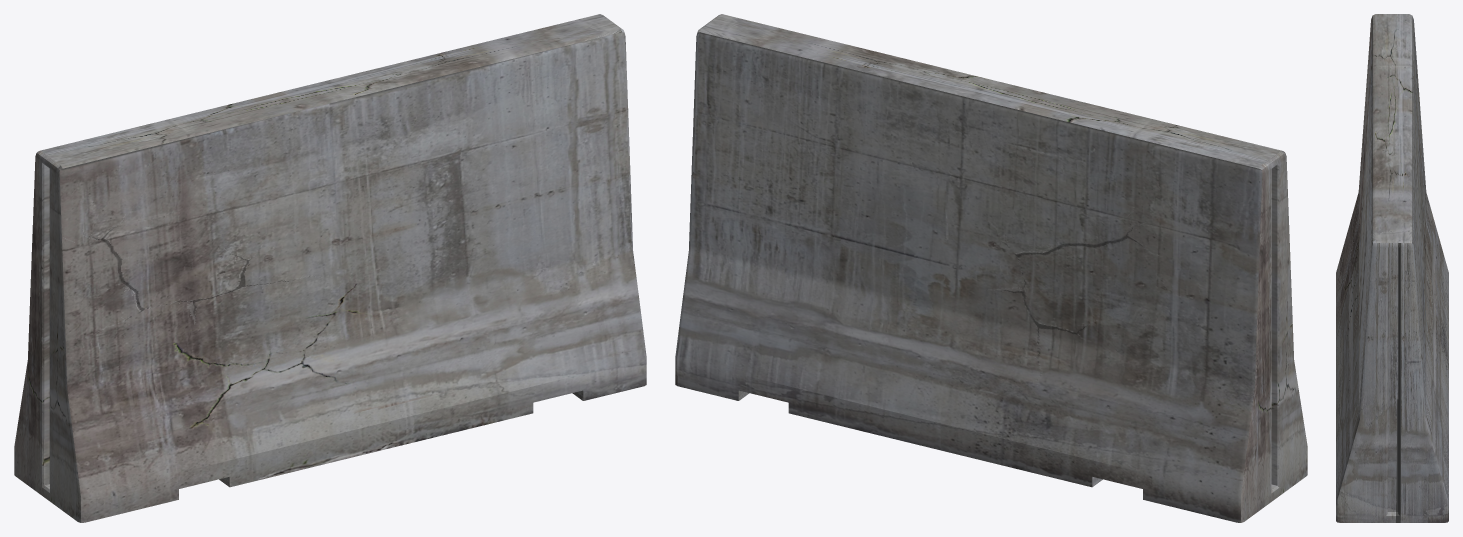
Rendered from City_Barricade010.fbx.
The picture shows the model from 3 angles, left to right: view 1: azimuth 30°, elevation 25°; view 2: azimuth 150°, elevation 25°; view 3: azimuth 270°, elevation 25°; orthographic projection. The views are drawn at different scales.
Parts seen in each view (by area): view 1: City_Barricade_010:Barricade_010; view 2: City_Barricade_010:Barricade_010; view 3: City_Barricade_010:Barricade_010.
Boxes of the visible parts, x1,y1,x2,y2 form: City_Barricade_010:Barricade_010: (14, 14, 646, 522); City_Barricade_010:Barricade_010: (675, 14, 1307, 522); City_Barricade_010:Barricade_010: (1336, 14, 1448, 522).
Size of the model in its own units: 199 by 114 by 41.46.
Materials: 1 (1 with a texture image).
